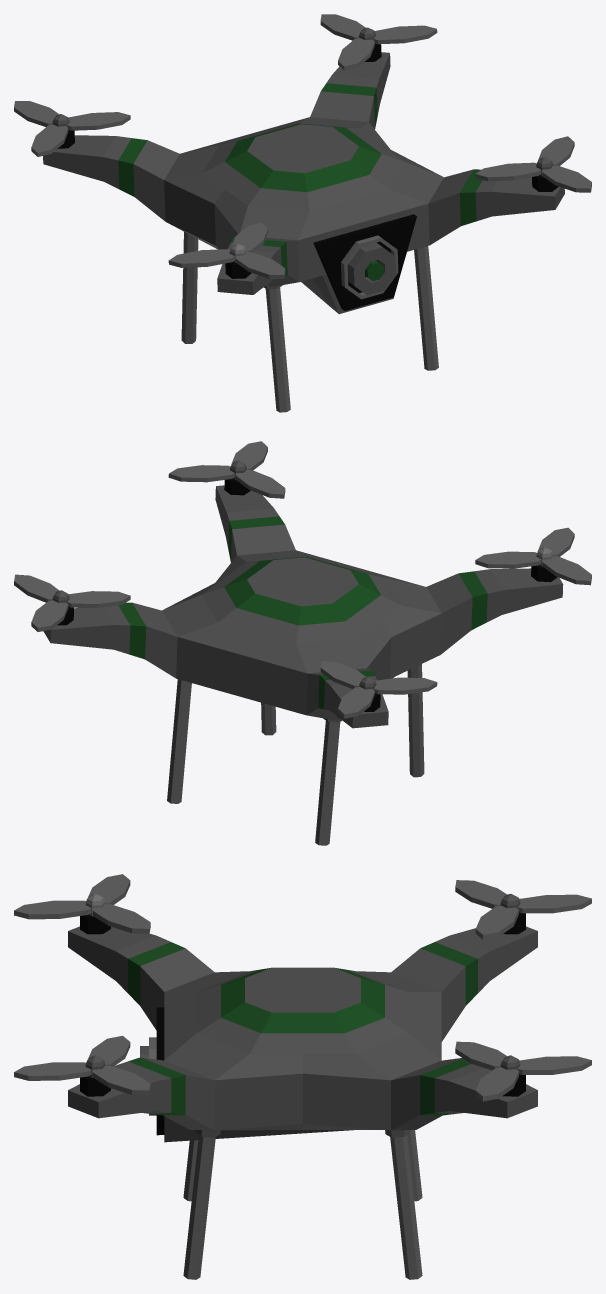
Rendered from proto_drone.fbx.
The picture shows the model from 3 angles, top to bottom: view 1: azimuth 30°, elevation 25°; view 2: azimuth 150°, elevation 25°; view 3: azimuth 270°, elevation 25°; orthographic projection. The views are drawn at different scales.
Parts seen in each view (by area): view 1: ドローン; view 2: ドローン; view 3: ドローン.
Part boxes in pixels (x1,y1,x2,y2): ドローン: [14, 14, 591, 412]; ドローン: [14, 441, 591, 845]; ドローン: [14, 874, 591, 1279].
Size of the model in its own units: 56.98 by 57.64 by 29.59.
Materials: 1 (1 with a texture image).
